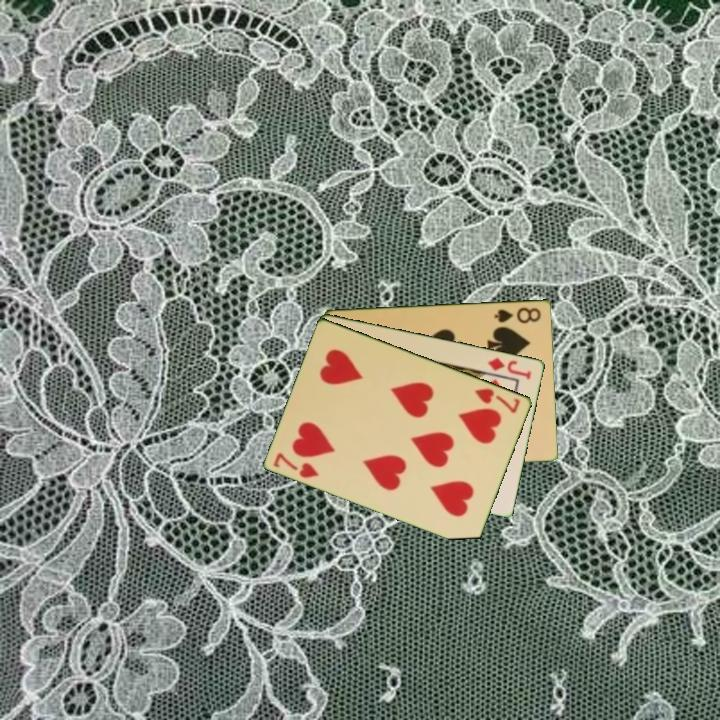7h: (471, 384, 523, 416), (270, 449, 322, 481)
8s: (491, 303, 544, 326)
Jd: (485, 354, 534, 382)
